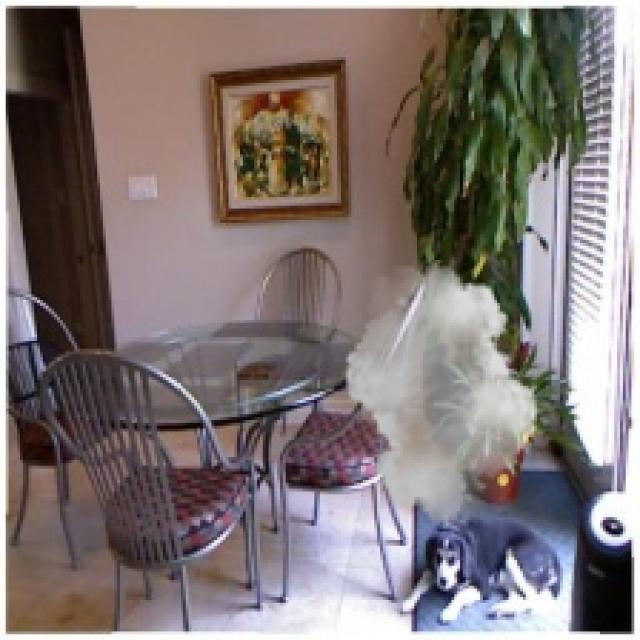smoke: (337, 260, 546, 529)
